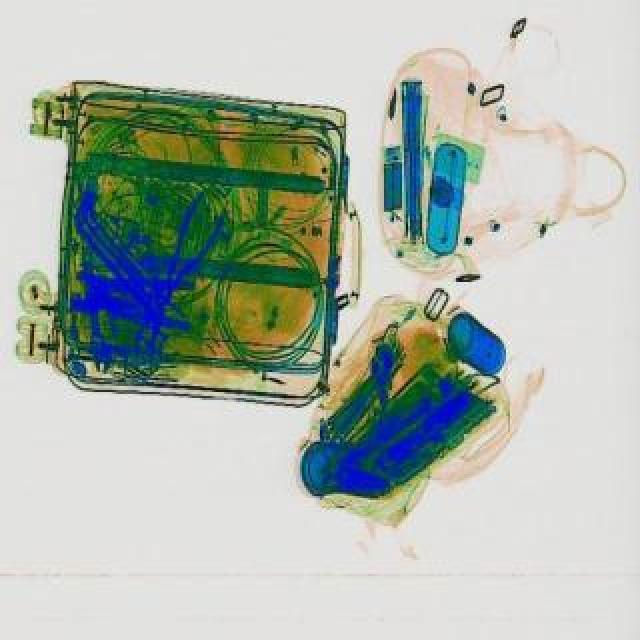scissors: (80, 254, 118, 374)
wrench: (144, 190, 236, 318), (68, 268, 200, 336)
